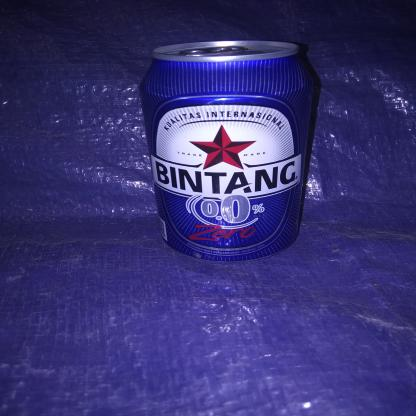mouse: (137, 35, 323, 266)
